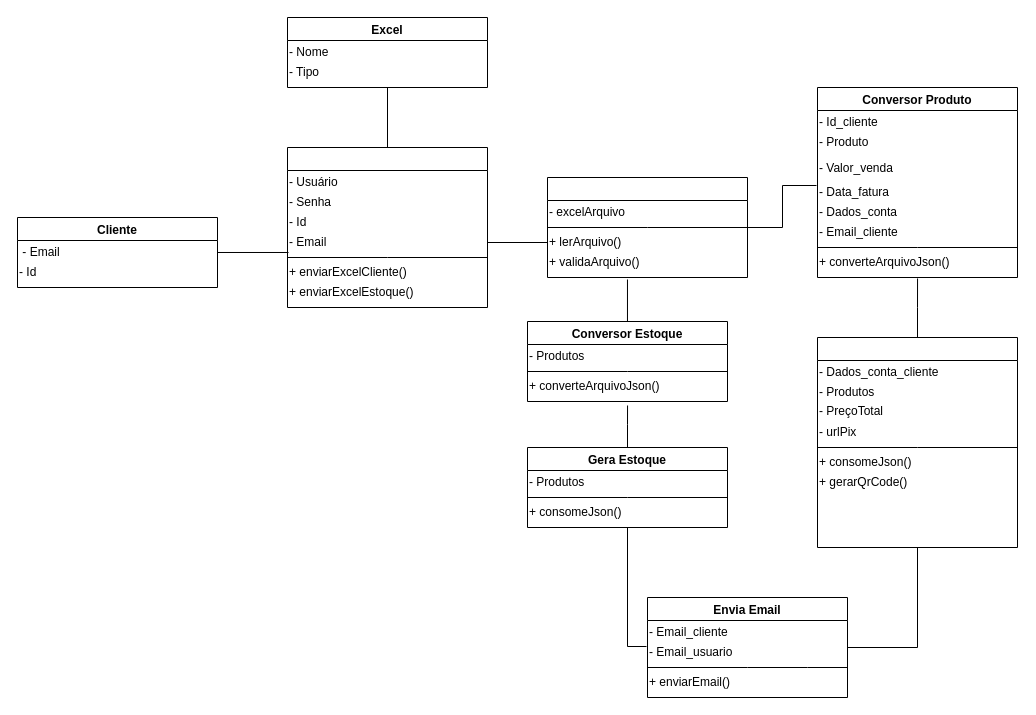
Image size: 1036x715. Some labels were removed from this diagram. The shapes that lost their labels are listed below. From the top down, each one's box as (x1, y1, x2, y2) in pixels, then its label:
(286, 146, 488, 308): Usuário do sistema
(546, 176, 748, 278): Tratador
(816, 336, 1018, 548): Gera Fatura
